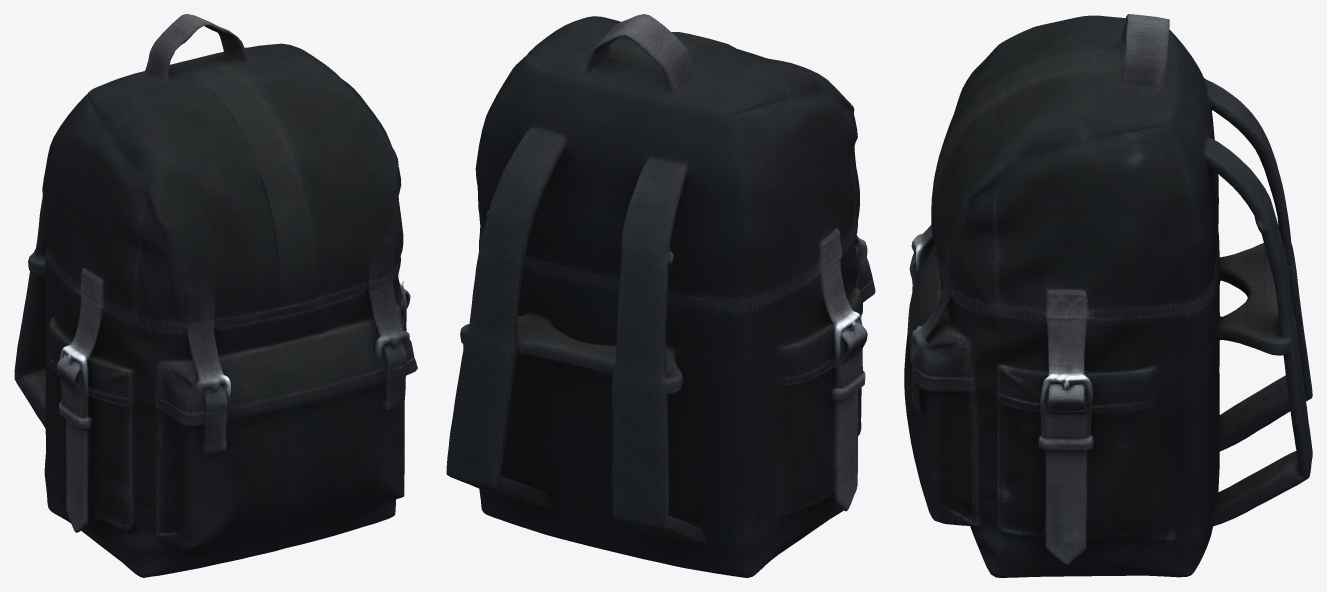
The model's file is backpack.glb.
3 renders of one model, left to right at view 1: azimuth 30°, elevation 25°; view 2: azimuth 150°, elevation 25°; view 3: azimuth 270°, elevation 25°, orthographic. The views are drawn at different scales.
Visible parts, largest first — view 1: Mesh; view 2: Mesh; view 3: Mesh.
Boxes of the visible parts, x1=… form: Mesh: x1=14, y1=14, x2=417, y2=577; Mesh: x1=446, y1=14, x2=875, y2=577; Mesh: x1=904, y1=14, x2=1312, y2=577.
Bounding box in the file's own units: 1.4 × 1.89 × 1.4.
Materials: 1 (1 with a texture image).
